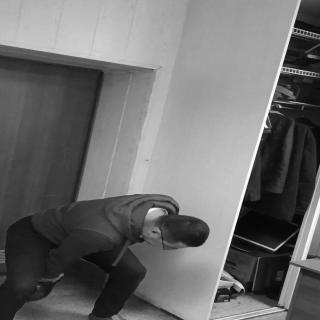kettlebell: (24, 281, 57, 304)
